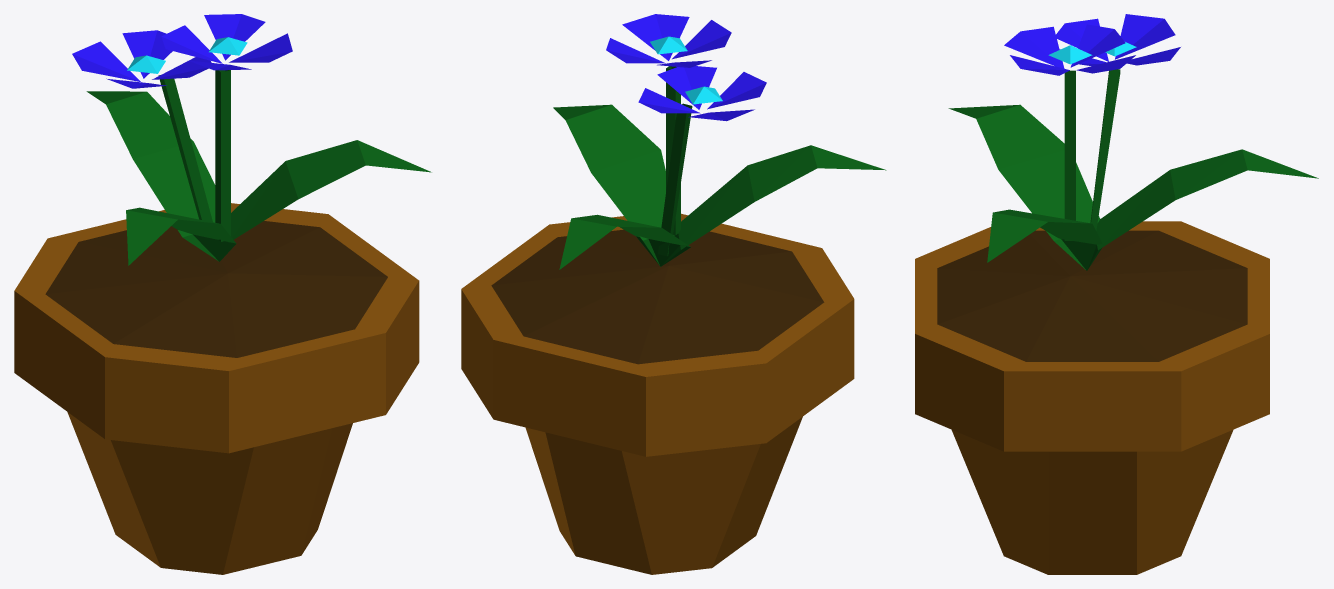
File: obj_potted_flower_2_0.obj
The picture shows the model from 3 angles, left to right: view 1: azimuth 30°, elevation 25°; view 2: azimuth 150°, elevation 25°; view 3: azimuth 270°, elevation 25°; orthographic projection. The views are drawn at different scales.
Size of the model in its own units: 0.5156 by 0.7656 by 0.5703.
